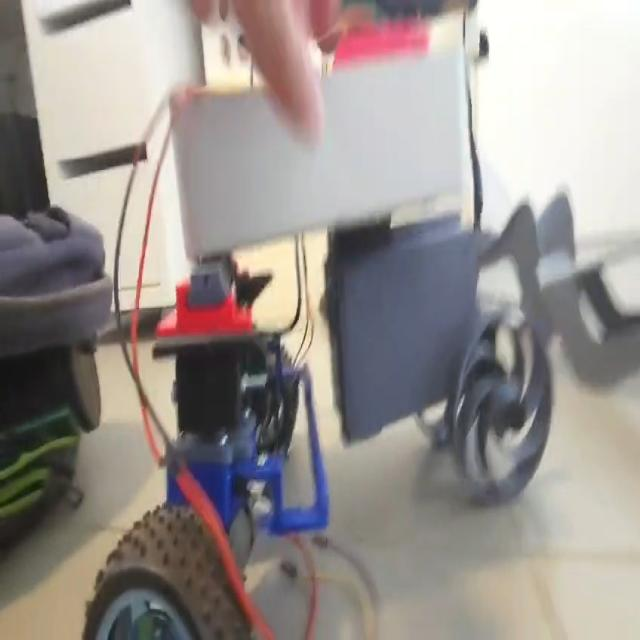Robot: (82, 0, 552, 640)
